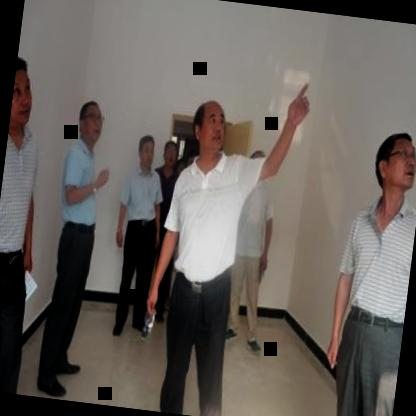head: (368, 125, 416, 201), (186, 93, 232, 161), (7, 50, 42, 138), (74, 94, 108, 144), (133, 130, 160, 172), (158, 135, 180, 171)
